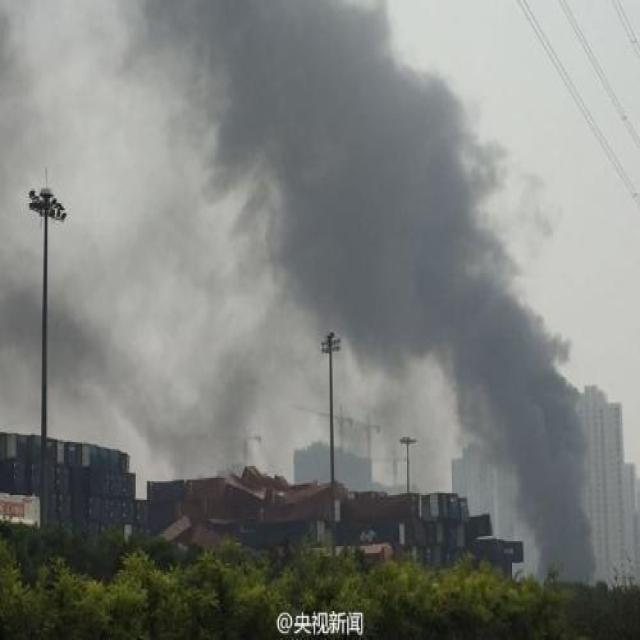Smoke: (0, 0, 599, 587)
